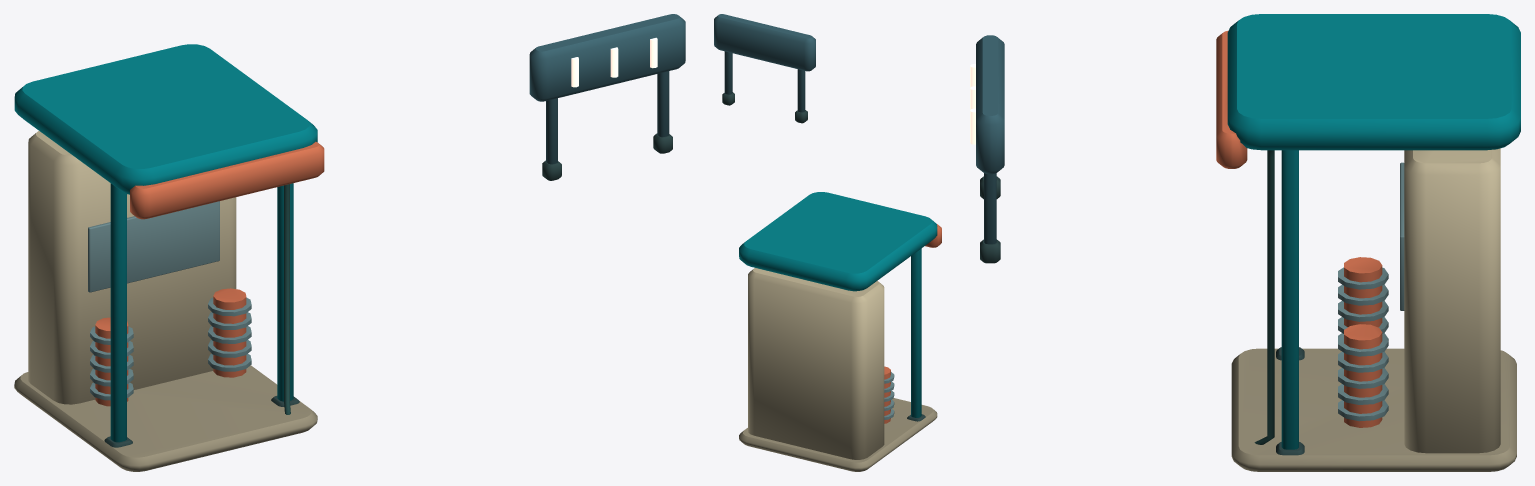
File: ocean_wash_4.glb
The picture shows the model from 3 angles, left to right: view 1: azimuth 30°, elevation 25°; view 2: azimuth 150°, elevation 25°; view 3: azimuth 270°, elevation 25°; orthographic projection. The views are drawn at different scales.
Visible parts, largest first — view 1: Wash4; view 2: Wash4; view 3: Wash4.
Boxes of the visible parts, x1,y1,x2,y2 form: Wash4: (14, 14, 685, 471); Wash4: (714, 14, 941, 471); Wash4: (970, 14, 1520, 471).
Bounding box in the file's own units: 5.28 × 4.8 × 4.79.
